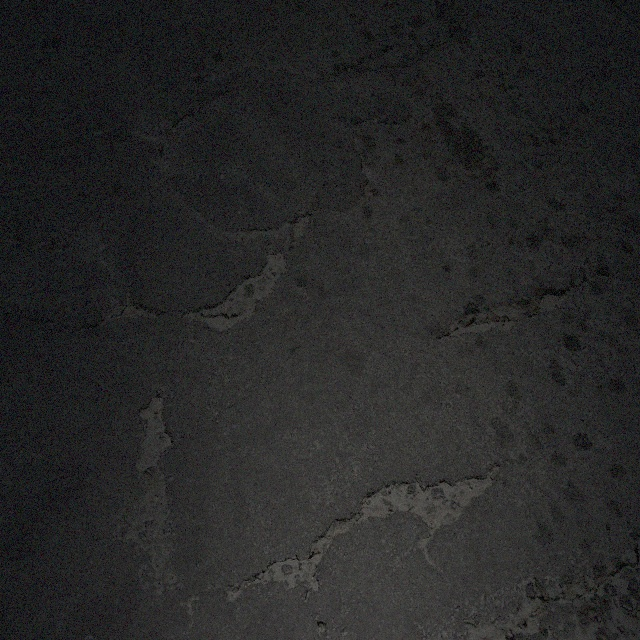pothole: (359, 459, 502, 531), (204, 242, 288, 330), (252, 517, 348, 586), (135, 495, 175, 591), (134, 389, 176, 480), (452, 296, 530, 334), (120, 299, 161, 327), (537, 285, 566, 316), (173, 110, 197, 135)
